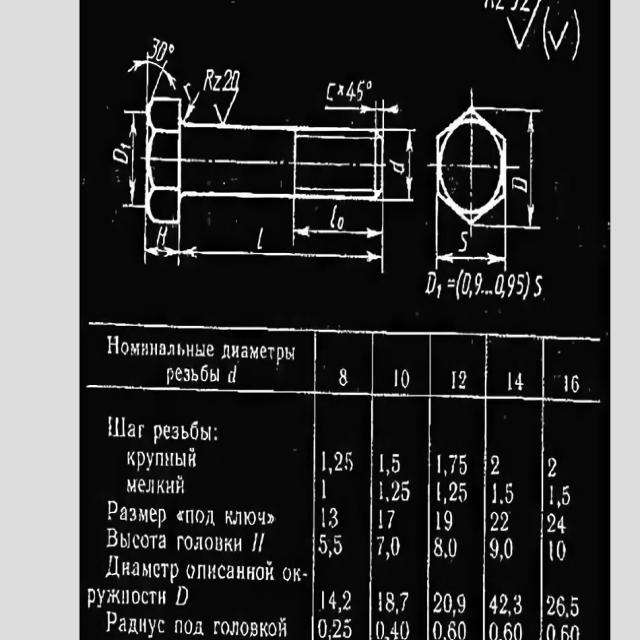marking_line: (178, 224, 386, 272), (290, 199, 387, 246), (507, 110, 542, 231), (433, 226, 507, 271), (385, 128, 417, 203), (123, 109, 144, 211), (127, 57, 177, 96), (324, 102, 398, 127), (143, 225, 180, 266), (214, 88, 239, 123), (184, 92, 200, 121)
numeric: (389, 158, 405, 176), (337, 367, 350, 389), (148, 38, 161, 59), (112, 149, 129, 165), (547, 455, 558, 478), (156, 43, 169, 62), (427, 269, 436, 296), (514, 369, 525, 391), (344, 449, 355, 471), (432, 592, 443, 614), (511, 177, 527, 192), (462, 271, 472, 295), (401, 369, 413, 389), (391, 533, 401, 557), (401, 478, 411, 502), (561, 483, 571, 507), (432, 536, 443, 557), (432, 619, 443, 640), (443, 509, 453, 532), (500, 510, 510, 533), (504, 536, 514, 559), (343, 590, 353, 613), (203, 68, 213, 90), (156, 225, 167, 245), (570, 373, 580, 395), (333, 533, 343, 555), (448, 537, 459, 557), (490, 454, 500, 476), (504, 482, 514, 504), (489, 511, 499, 533), (489, 538, 499, 560), (386, 589, 395, 613), (391, 481, 401, 502), (448, 481, 458, 502), (331, 619, 341, 640), (375, 619, 385, 640), (457, 594, 467, 615), (545, 621, 556, 640), (459, 229, 468, 252), (534, 275, 543, 298), (495, 272, 504, 295), (390, 368, 399, 391), (330, 505, 339, 528), (448, 452, 457, 475), (459, 479, 468, 502), (570, 595, 579, 618), (556, 594, 565, 617), (514, 593, 523, 616), (256, 225, 264, 250), (447, 620, 457, 640), (318, 534, 327, 556), (392, 451, 401, 473), (326, 82, 336, 101), (488, 621, 498, 640), (459, 369, 468, 390), (547, 512, 556, 533), (344, 619, 353, 640), (457, 619, 466, 640), (474, 272, 482, 295), (376, 535, 384, 558), (387, 508, 395, 531), (329, 204, 336, 230), (334, 452, 343, 472), (318, 619, 327, 639), (400, 620, 409, 640), (546, 596, 555, 616), (228, 364, 237, 384), (460, 453, 468, 475), (557, 539, 565, 561), (500, 592, 508, 614), (505, 373, 514, 392), (513, 621, 522, 640), (570, 623, 580, 640), (357, 80, 365, 101), (508, 273, 515, 297), (400, 591, 408, 612), (557, 516, 566, 534), (503, 622, 512, 640), (517, 272, 524, 295), (489, 594, 497, 614), (450, 367, 457, 389), (320, 479, 327, 501), (376, 591, 383, 613), (444, 594, 452, 613), (184, 81, 191, 102), (346, 81, 353, 102), (224, 69, 232, 87), (213, 75, 222, 91), (492, 481, 498, 505), (320, 588, 326, 612), (232, 69, 239, 89), (391, 620, 398, 640), (436, 479, 442, 502), (329, 592, 336, 611), (563, 373, 569, 395), (520, 0, 530, 13), (560, 624, 568, 640), (320, 451, 326, 472), (495, 0, 506, 11), (548, 540, 554, 560), (378, 482, 384, 501), (337, 214, 344, 230), (379, 452, 384, 474), (378, 509, 383, 530), (436, 453, 441, 474), (436, 511, 441, 532), (436, 284, 442, 301), (484, 0, 495, 9), (510, 0, 518, 11), (549, 485, 553, 506), (121, 143, 130, 150), (322, 506, 325, 527)
special_symbol: (506, 13, 537, 51), (548, 20, 569, 52), (571, 7, 579, 65), (543, 6, 551, 62), (455, 268, 464, 300), (523, 271, 530, 300), (365, 80, 374, 92), (168, 43, 175, 55), (447, 278, 455, 288), (338, 83, 344, 96), (443, 467, 448, 479), (443, 548, 448, 559), (385, 550, 390, 560), (498, 498, 505, 505), (328, 549, 332, 560), (386, 468, 390, 478), (500, 552, 504, 562), (557, 500, 561, 509), (328, 467, 333, 474), (337, 607, 342, 614), (395, 606, 398, 616), (328, 634, 333, 640), (386, 495, 390, 502), (444, 496, 447, 505), (384, 636, 390, 640), (453, 609, 456, 617), (443, 633, 446, 640)
